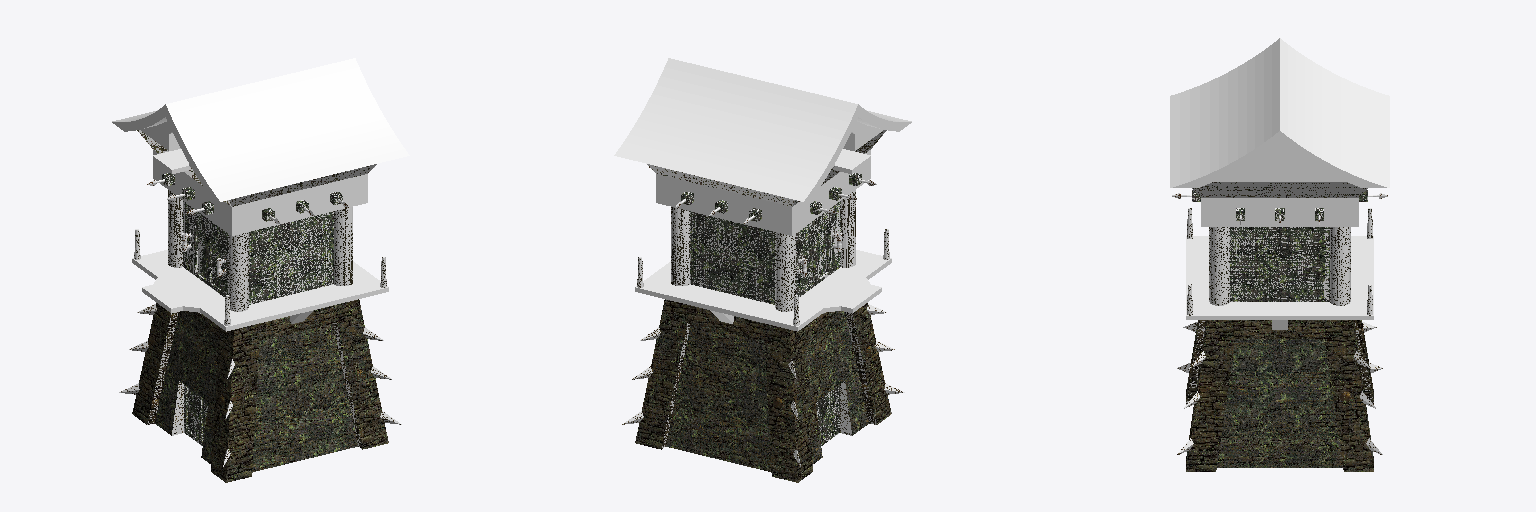
3 views of the same model, side by side, from view 1: azimuth 30°, elevation 25°; view 2: azimuth 150°, elevation 25°; view 3: azimuth 270°, elevation 25° (orthographic).
Parts seen in each view (by area): view 1: mesh1_mesh1-geometry; view 2: mesh1_mesh1-geometry; view 3: mesh1_mesh1-geometry.
Boxes of the visible parts, <box> form: mesh1_mesh1-geometry: <box>112,58,409,482</box>; mesh1_mesh1-geometry: <box>614,58,911,482</box>; mesh1_mesh1-geometry: <box>1170,38,1389,471</box>.
Bounding box in the file's own units: 0.4609 × 0.7707 × 0.44.
18 materials, 7 textured.